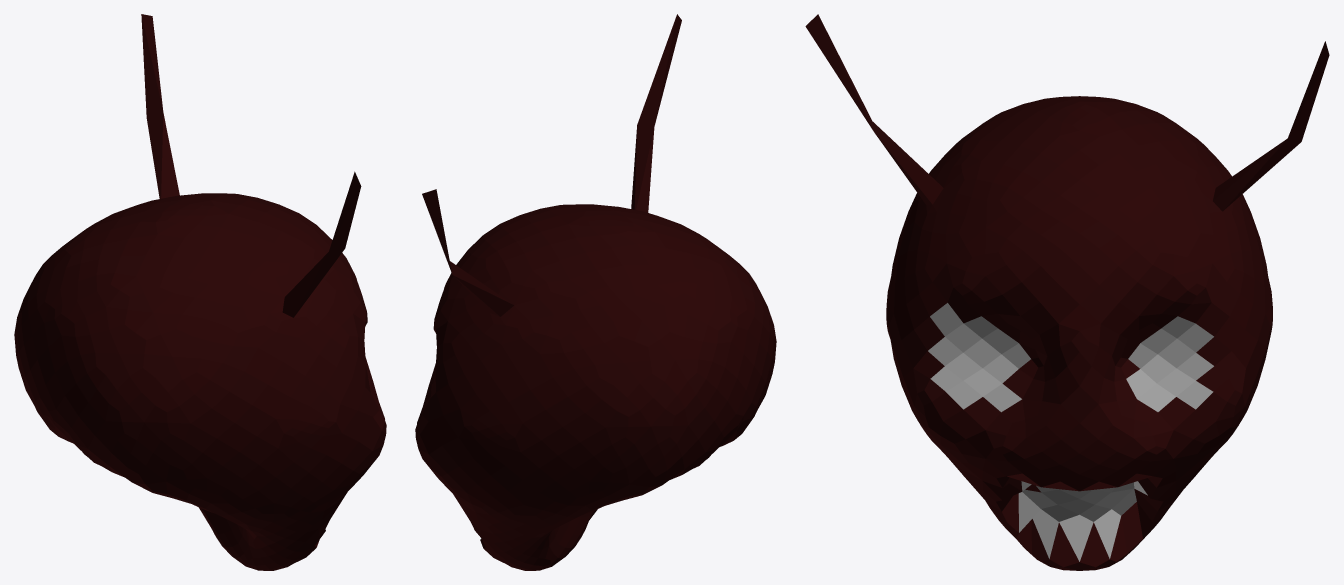
The model's file is skull.fbx.
The picture shows the model from 3 angles, left to right: view 1: azimuth 30°, elevation 25°; view 2: azimuth 150°, elevation 25°; view 3: azimuth 270°, elevation 25°; orthographic projection. The views are drawn at different scales.
Parts seen in each view (by area): view 1: Icosphere; view 2: Icosphere; view 3: Icosphere.
Part boxes in pixels (<box>): Icosphere: <box>14,14,386,570</box>; Icosphere: <box>415,14,776,570</box>; Icosphere: <box>805,14,1329,570</box>.
Bounding box in the file's own units: 51.88 × 76.48 × 67.77.
